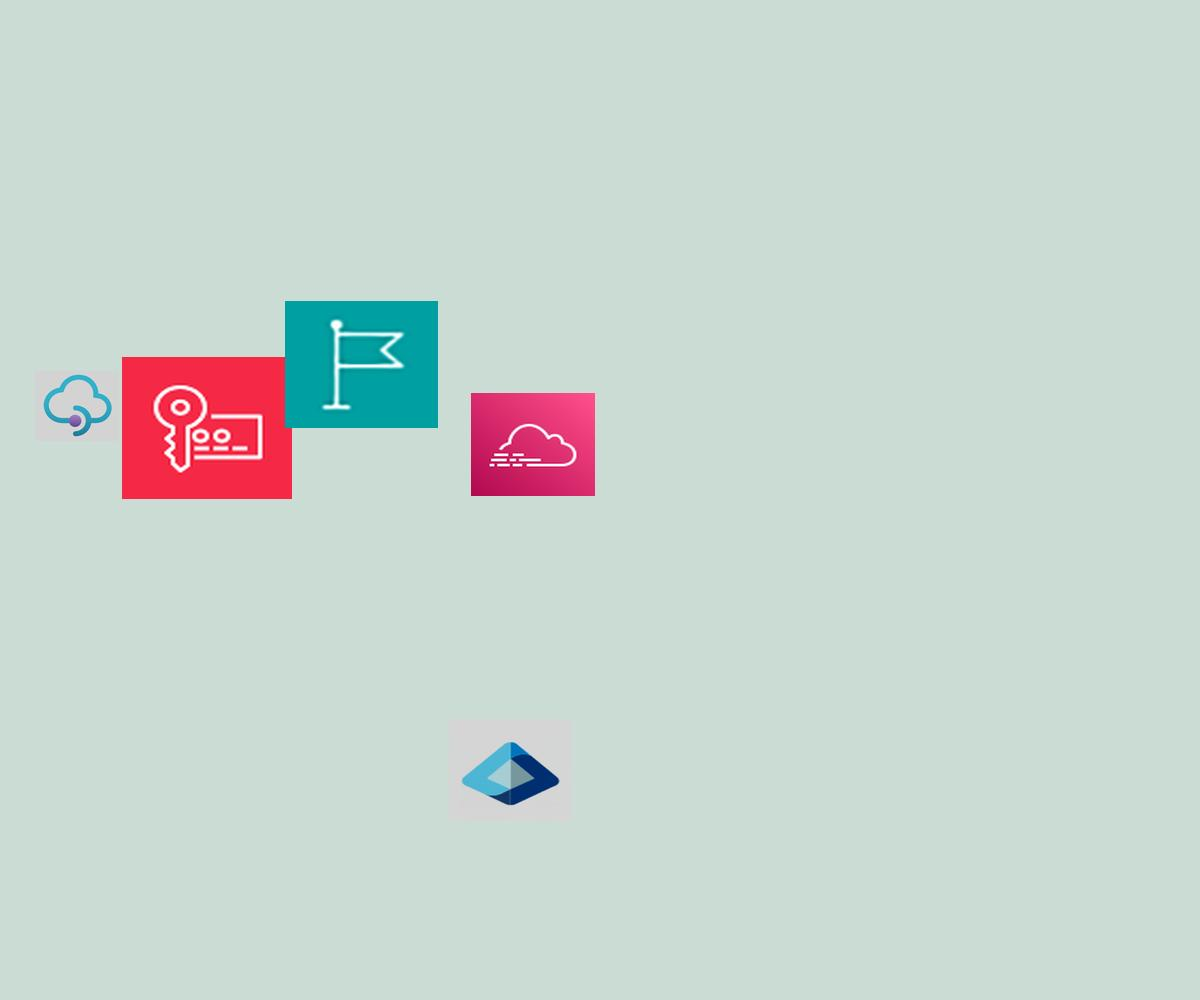AWS-CloudTrail: (471, 393, 595, 496)
AWS-Key-Management-Service: (122, 357, 292, 499)
AWS-Region: (285, 301, 438, 428)
Azure_api_gateway: (35, 371, 119, 441)
Azure_microsoft_entra: (449, 719, 572, 821)
